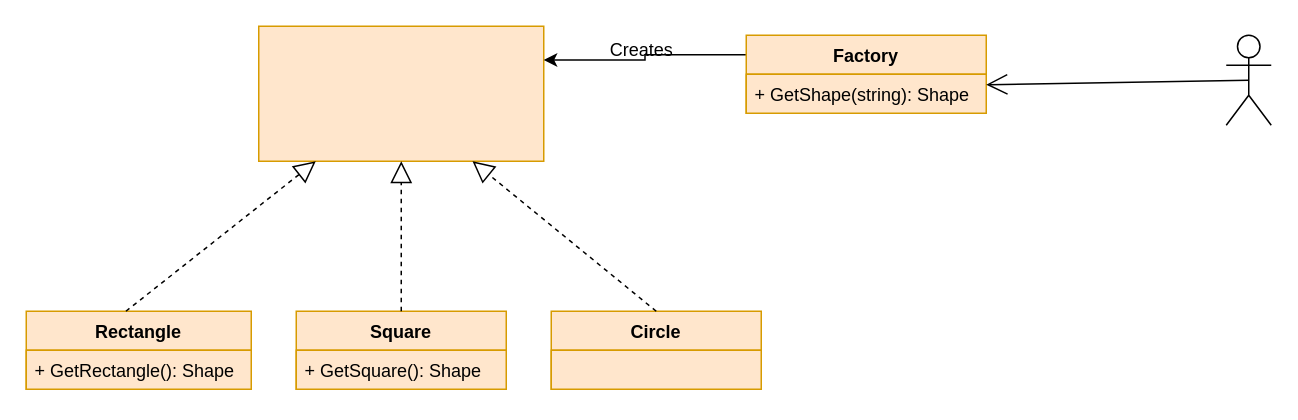
Image size: 1298x420. Some labels were removed from this diagram. The centre of each missing label's shape, as x and y in pixels:
"+ GetCircle(): Shape" goes at (655,369).
"<<Interface>> Shape + Draw() + Fill(string)" goes at (400,93).
"Actor" goes at (1248,79).
